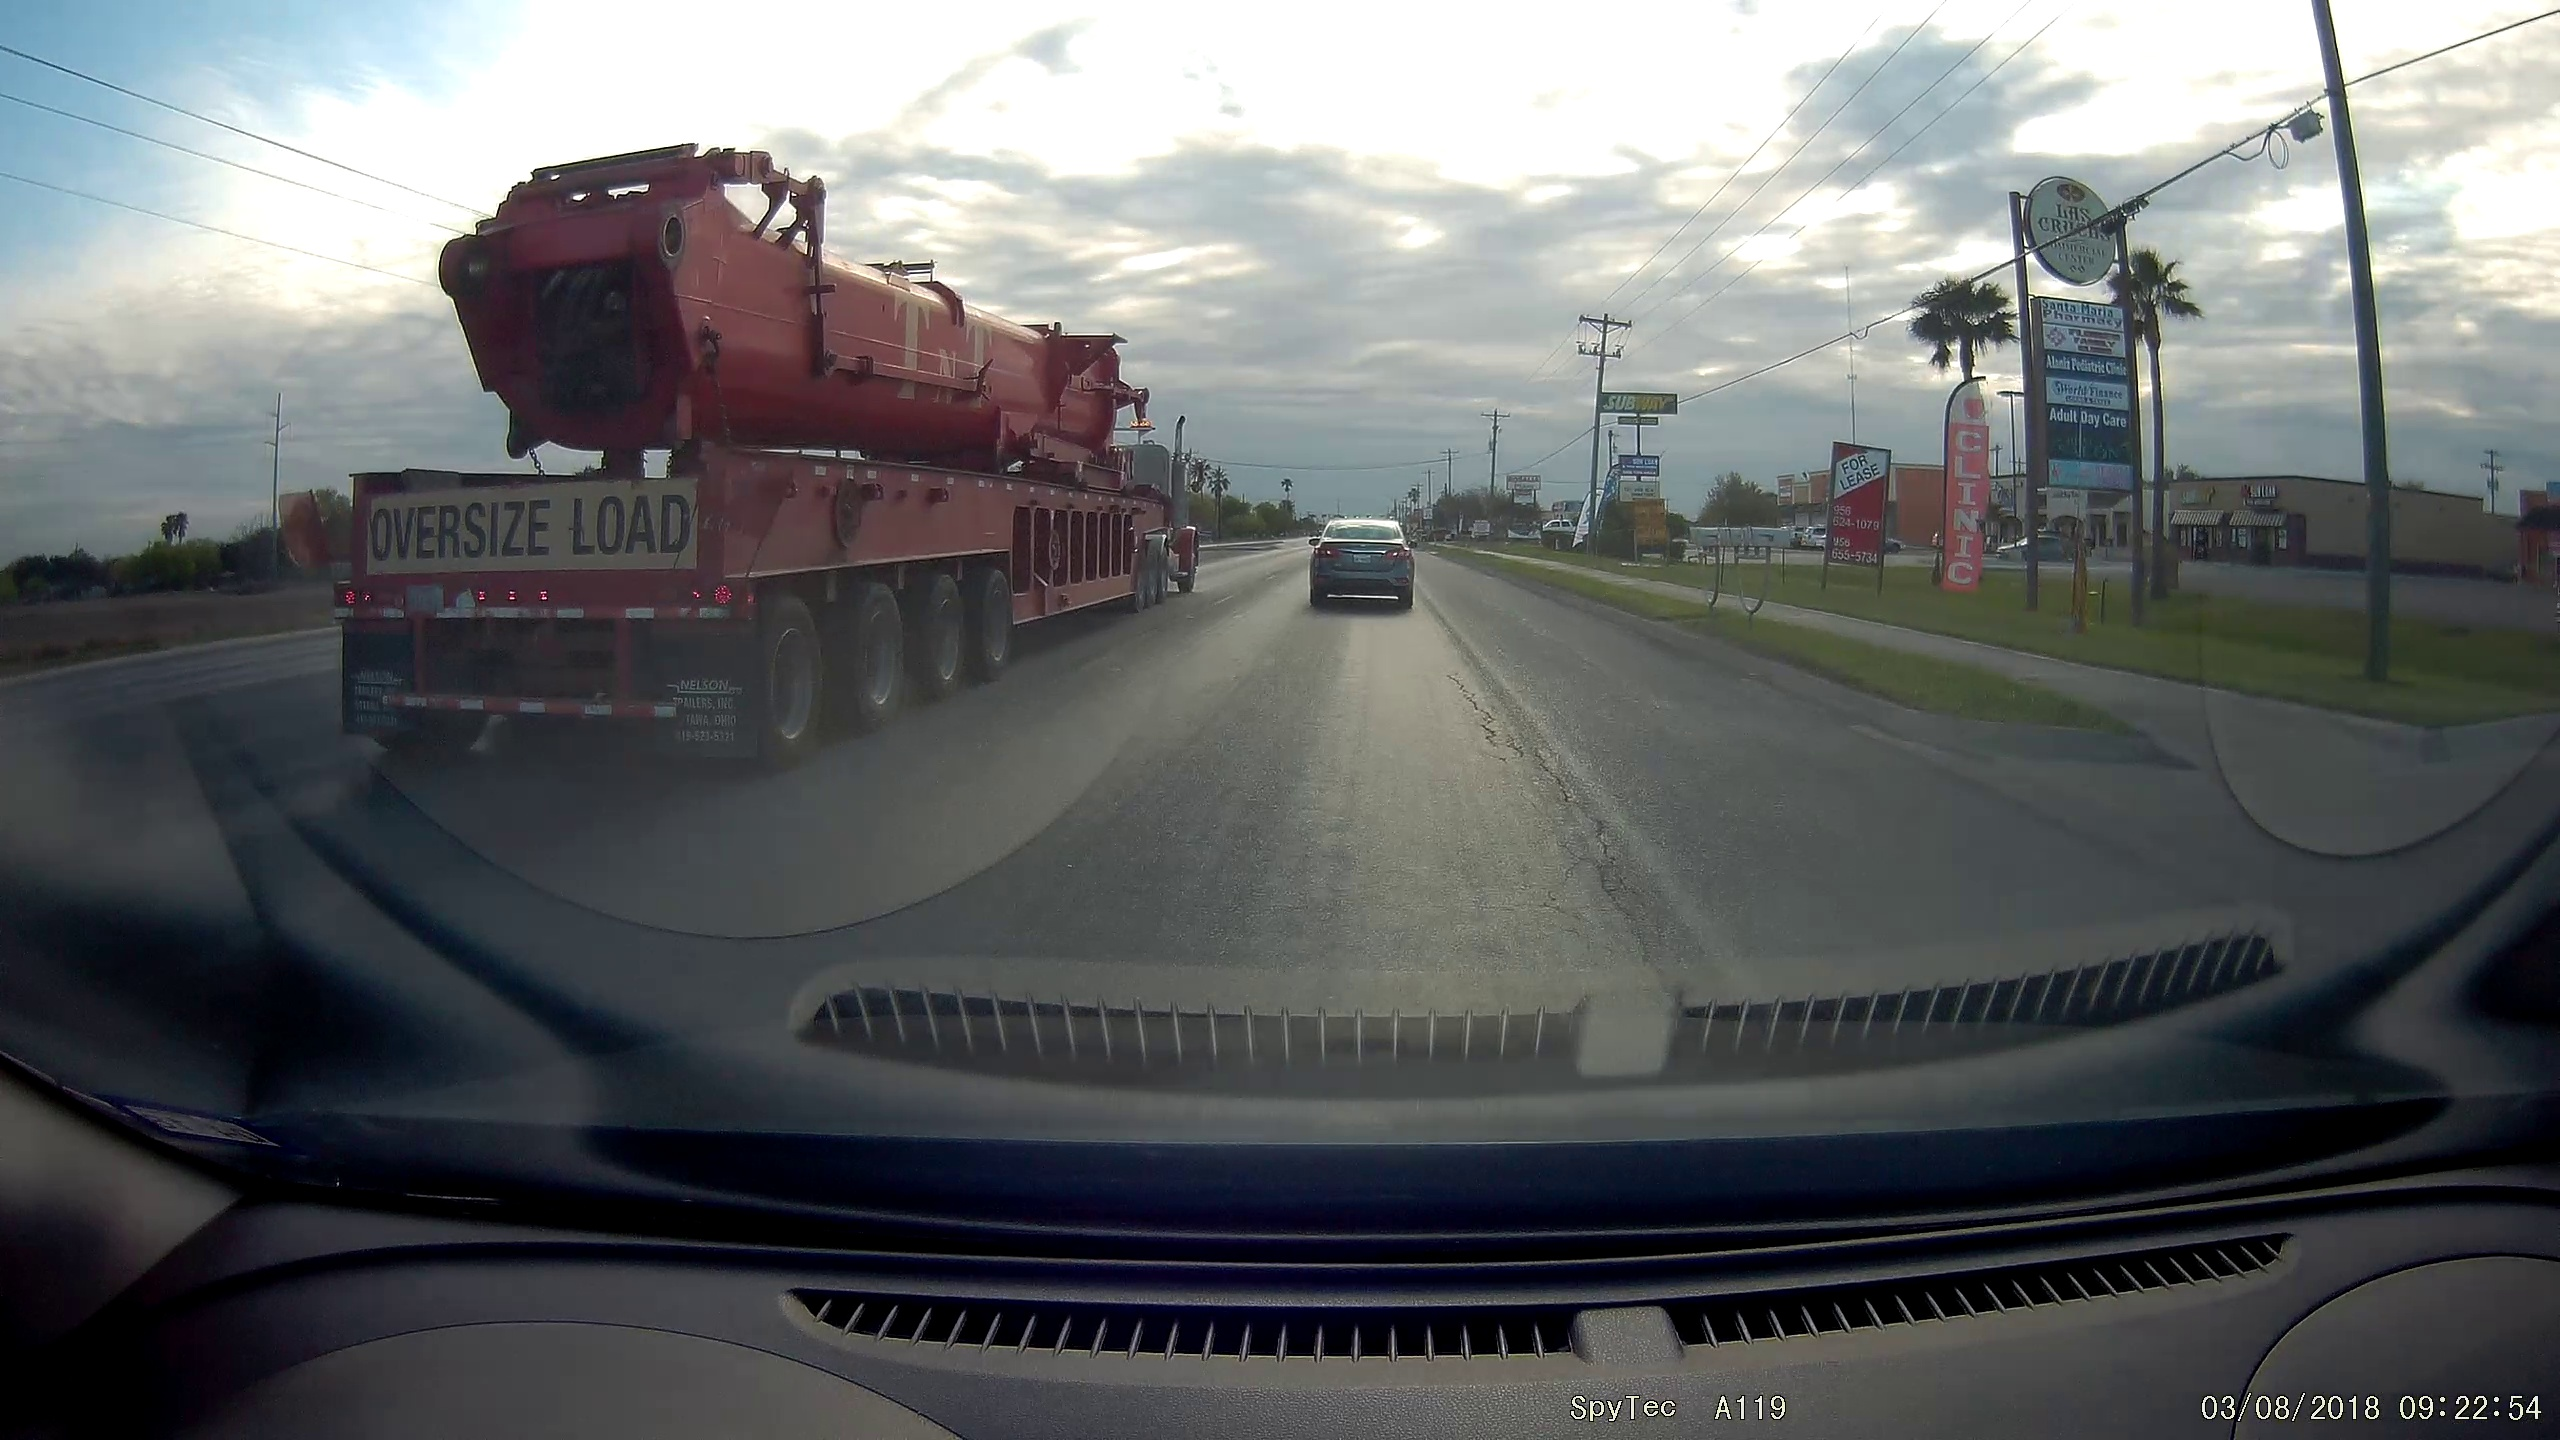blurredLine: (1609, 805, 1783, 1011)
crack: (1568, 809, 1711, 1015), (1433, 668, 1535, 777), (1523, 751, 1584, 825)
